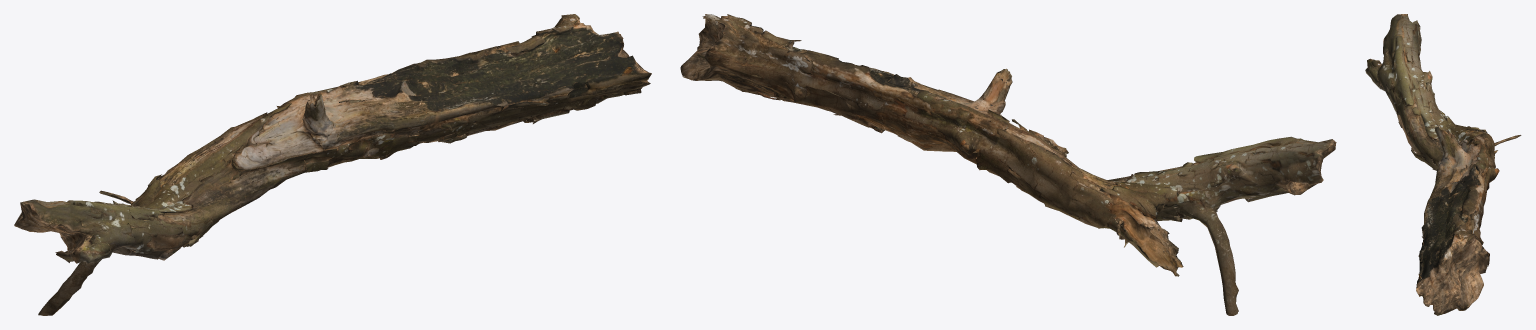
The model's file is dead_tree_trunk_02.glb.
3 renders of one model, left to right at view 1: azimuth 30°, elevation 25°; view 2: azimuth 150°, elevation 25°; view 3: azimuth 270°, elevation 25°, orthographic. The views are drawn at different scales.
Visible parts, largest first — view 1: dead_tree_trunk_02; view 2: dead_tree_trunk_02; view 3: dead_tree_trunk_02.
Part boxes in pixels (x1,y1,x2,y2): dead_tree_trunk_02: (14,14,651,315); dead_tree_trunk_02: (680,14,1336,315); dead_tree_trunk_02: (1365,14,1521,315).
Bounding box in the file's own units: 4.05 × 1.06 × 1.05.
Materials: 1 (1 with a texture image).
